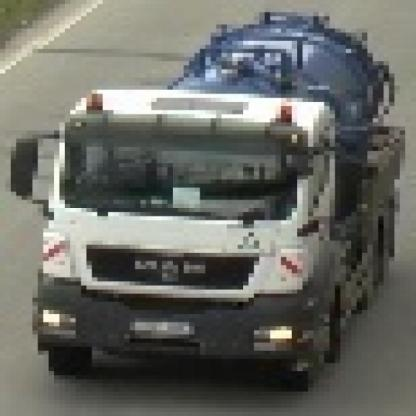truck: (12, 5, 395, 381)
